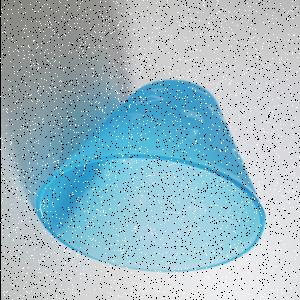Cup: (36, 79, 268, 275)
